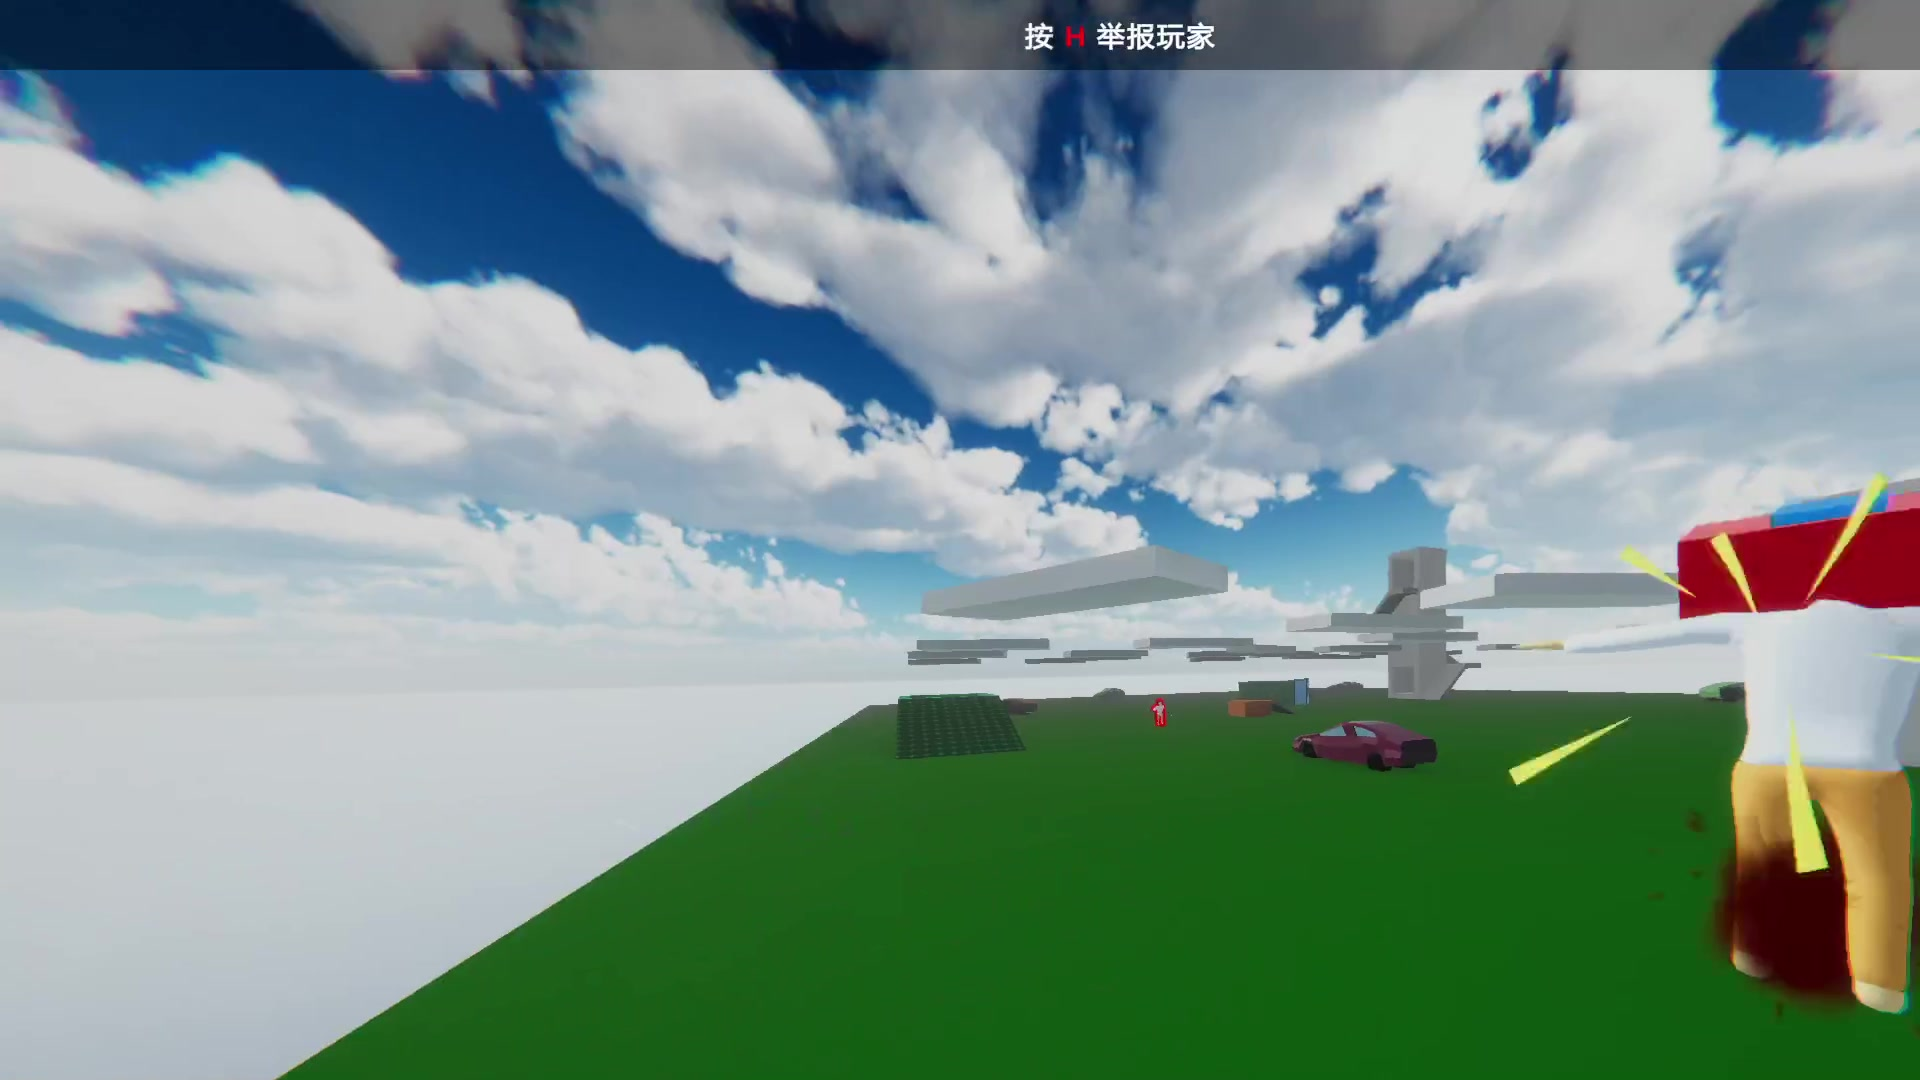human: (1148, 686, 1173, 732)
